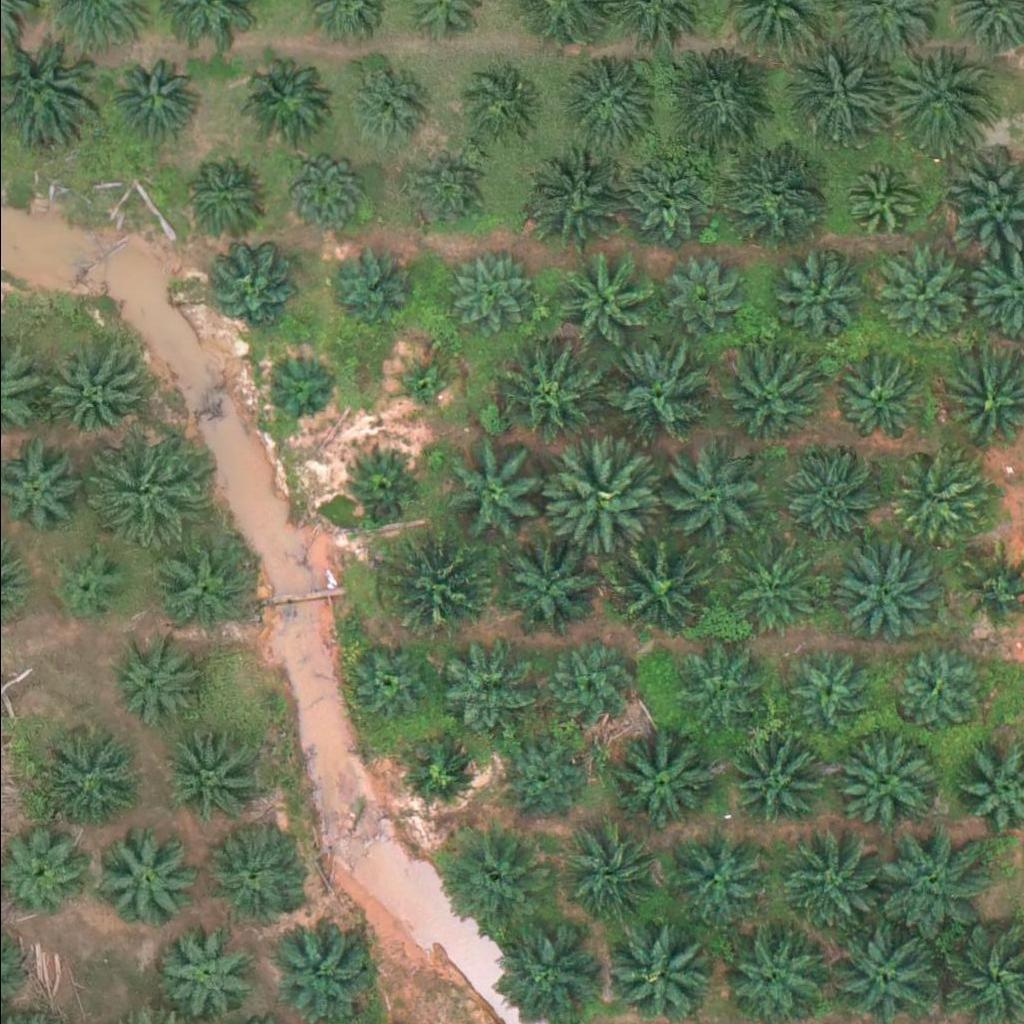Kelapa_Sawit: (710, 342, 824, 455), (85, 434, 199, 547), (715, 137, 828, 250), (545, 448, 658, 561), (610, 722, 723, 835), (874, 824, 987, 937), (430, 821, 543, 934), (609, 910, 722, 1023), (650, 447, 764, 559), (884, 44, 997, 156), (776, 41, 889, 153), (663, 49, 776, 161), (601, 341, 714, 453), (499, 340, 612, 452), (436, 443, 549, 555), (830, 536, 943, 648), (605, 536, 718, 648), (384, 534, 497, 646), (827, 724, 940, 836), (770, 827, 883, 939), (549, 815, 662, 927), (558, 51, 659, 151), (867, 243, 968, 343), (554, 252, 655, 352), (891, 451, 992, 551), (728, 543, 829, 643), (494, 536, 595, 636), (150, 539, 251, 639), (427, 634, 528, 734), (727, 727, 828, 827), (272, 917, 373, 1017), (207, 825, 308, 925), (158, 725, 259, 825), (97, 830, 198, 930), (37, 726, 138, 826), (532, 153, 632, 253), (778, 452, 878, 552), (670, 826, 770, 926), (157, 921, 257, 1021), (42, 347, 142, 447), (445, 63, 533, 151), (780, 250, 868, 338), (659, 258, 747, 346), (439, 250, 527, 338), (200, 247, 288, 335), (395, 730, 483, 818), (787, 642, 875, 730), (108, 640, 196, 728), (173, 152, 261, 239), (280, 147, 368, 234), (401, 147, 489, 234), (341, 57, 429, 144), (241, 53, 329, 140), (834, 158, 922, 245), (617, 159, 705, 246), (333, 245, 421, 332), (827, 359, 915, 446), (896, 640, 984, 727), (669, 645, 757, 732), (544, 641, 632, 728), (340, 643, 428, 730), (499, 736, 587, 823), (104, 58, 192, 145), (344, 445, 420, 520), (50, 548, 126, 623), (262, 351, 337, 426), (385, 352, 448, 415)
